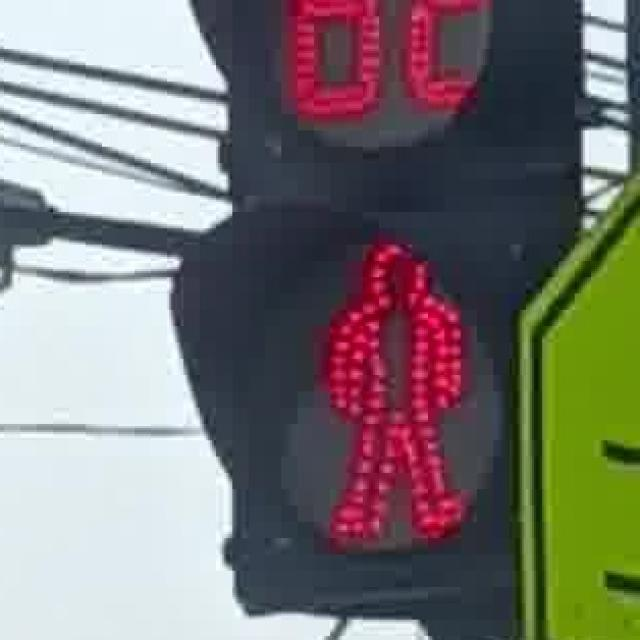red-crossing: (304, 216, 480, 554)
